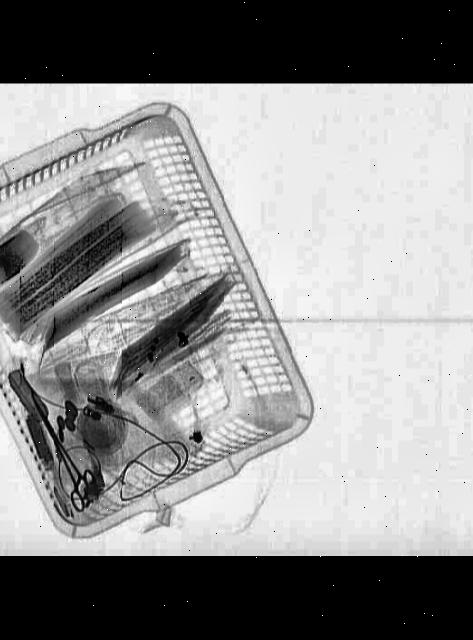Scissors: (14, 388, 110, 517)
